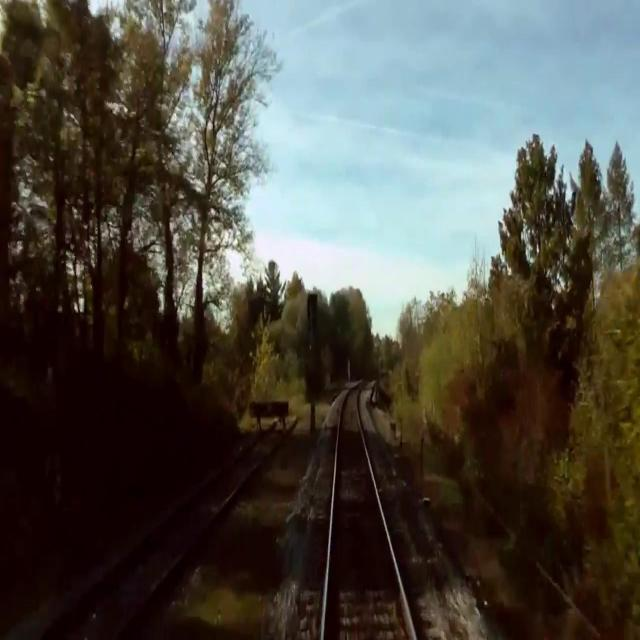rail-track: (46, 436, 275, 639), (326, 386, 412, 639)
